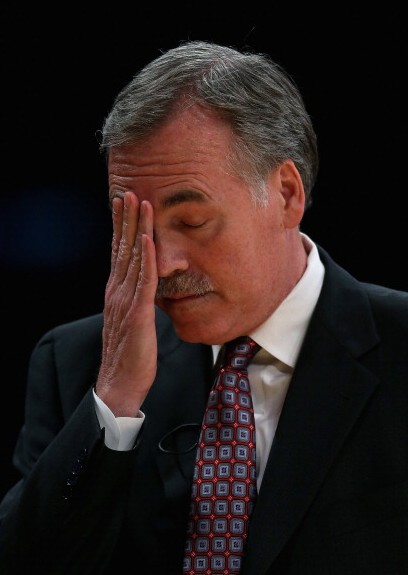face: (117, 115, 265, 346)
